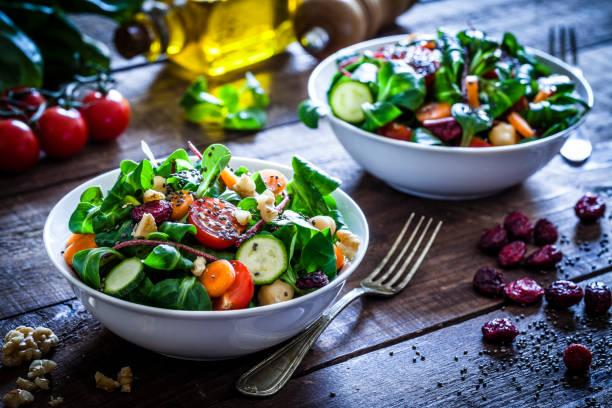Braised Crucian Carp: (43, 155, 365, 361), (313, 33, 592, 198)
